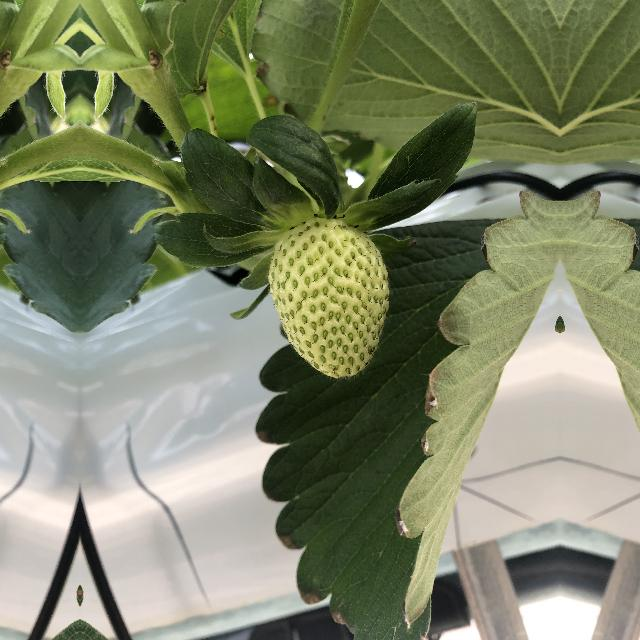Health_25: (266, 213, 398, 379)
